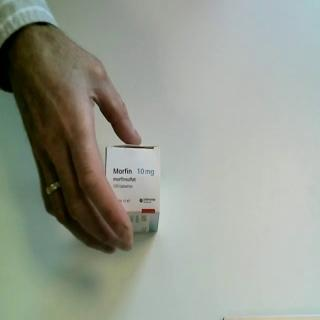morfin10mg: (104, 144, 162, 236)
